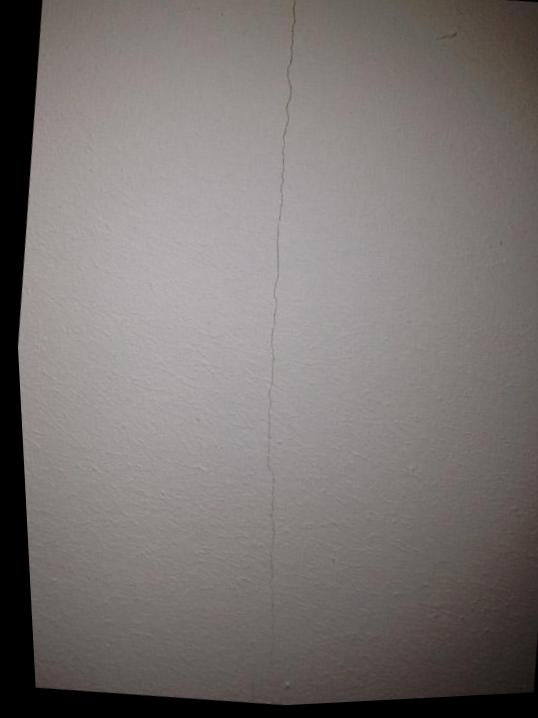crack: (261, 0, 295, 640)
